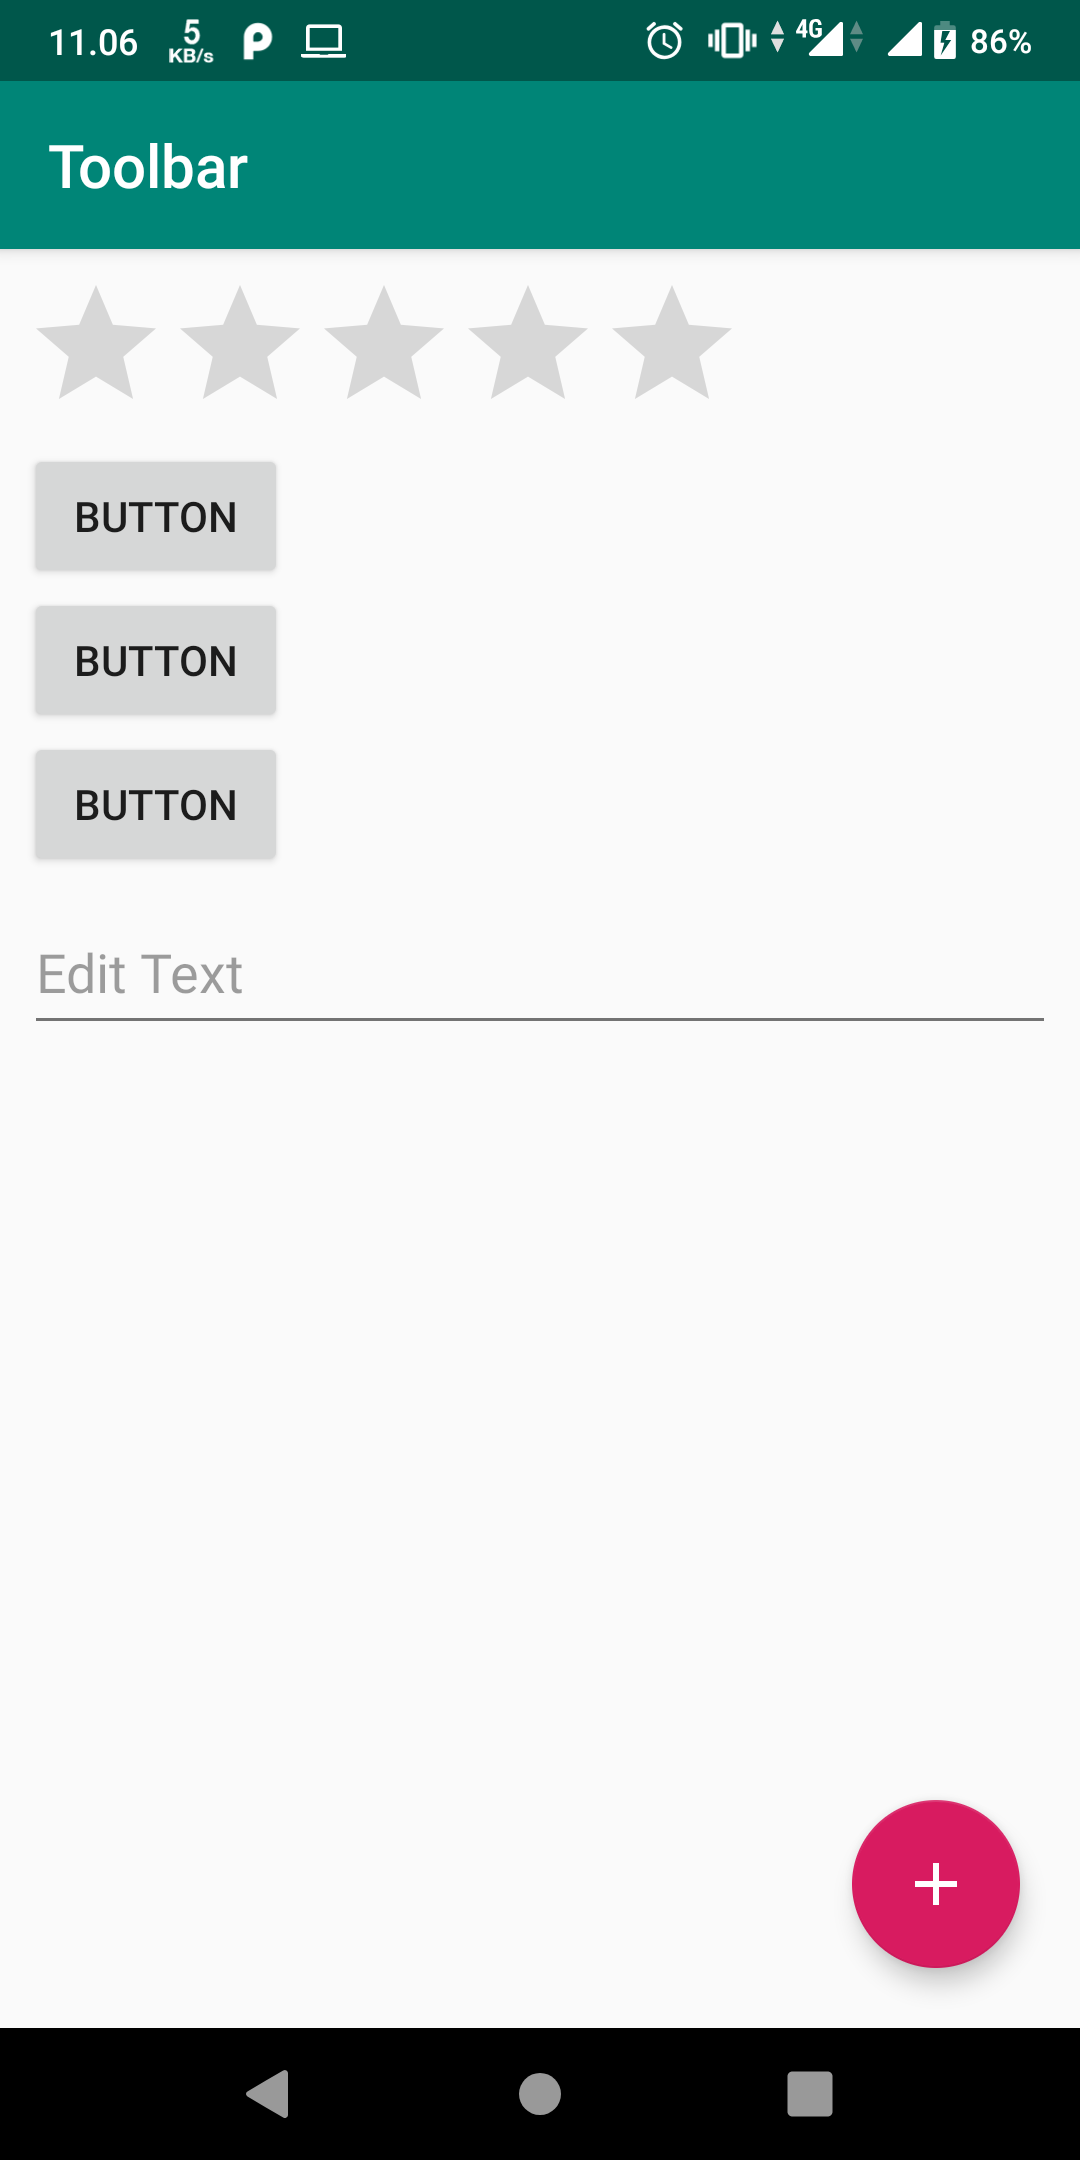button: (28, 448, 291, 583), (25, 596, 291, 727), (25, 741, 291, 866)
editText: (22, 931, 1063, 1048)
floatingButton: (838, 1787, 1035, 1984)
ratingBar: (32, 282, 736, 412)
toolbar: (3, 83, 1080, 249)
